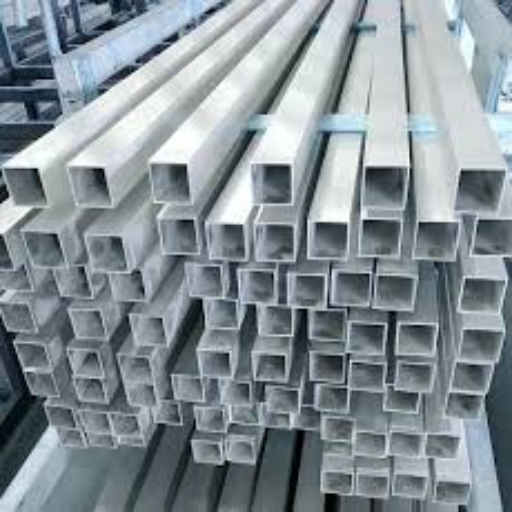Square: (454, 168, 502, 212), (363, 166, 405, 207), (69, 166, 110, 207), (4, 168, 46, 205), (150, 164, 190, 202), (417, 222, 458, 259), (461, 278, 504, 312), (252, 164, 290, 202), (22, 231, 63, 266), (309, 222, 346, 259), (85, 236, 125, 270), (255, 224, 293, 259), (361, 220, 400, 254), (472, 220, 511, 254), (207, 224, 244, 259), (158, 222, 197, 251), (463, 330, 500, 359), (187, 264, 219, 296), (241, 269, 273, 301), (334, 274, 368, 304), (379, 278, 413, 308), (287, 278, 324, 305), (398, 325, 435, 352), (132, 316, 166, 345), (69, 311, 105, 338), (350, 325, 388, 350), (452, 365, 488, 389), (256, 353, 285, 382), (351, 362, 382, 389), (56, 271, 88, 296), (118, 355, 150, 380), (309, 355, 342, 378), (2, 304, 32, 329), (312, 313, 342, 338), (385, 390, 417, 413), (427, 435, 460, 457), (261, 311, 290, 336), (356, 433, 385, 457), (16, 344, 47, 366), (112, 278, 146, 298), (209, 302, 237, 326), (69, 351, 99, 373), (392, 433, 422, 455), (201, 351, 228, 375), (448, 395, 480, 415), (436, 482, 468, 502), (399, 365, 428, 387), (172, 376, 199, 399), (220, 381, 248, 403), (25, 372, 55, 392), (267, 390, 297, 410), (394, 475, 424, 495), (47, 405, 74, 427), (323, 418, 350, 439), (76, 379, 104, 399), (358, 476, 386, 495), (1, 272, 32, 289), (317, 390, 346, 408), (127, 386, 153, 406), (196, 409, 221, 429), (112, 414, 137, 434), (85, 411, 108, 432), (323, 475, 351, 492), (229, 440, 252, 460), (194, 442, 219, 460), (157, 402, 177, 424), (56, 431, 81, 446), (299, 411, 319, 429), (0, 234, 10, 268), (234, 408, 255, 424), (265, 411, 286, 427), (91, 437, 111, 446), (123, 437, 141, 446)
